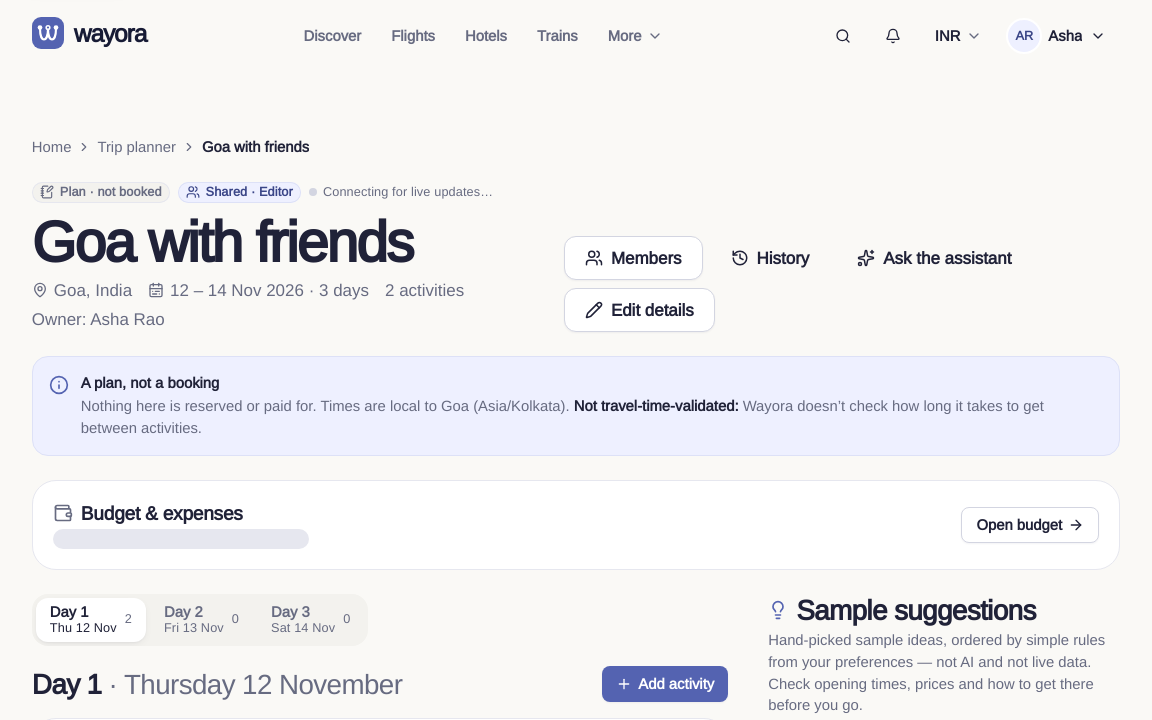
controls follow the role › an editor edits the itinerary and details, but can’t delete, share or link a booking
Expected: the heading "Goa with friends" is shown, x1=32 y1=206 x2=412 y2=274
Expected: the text "Shared · Editor" is shown, x1=178 y1=182 x2=301 y2=203
Step 1. Click the button "Edit details" → [639, 310], box x1=564 y1=288 x2=715 y2=332
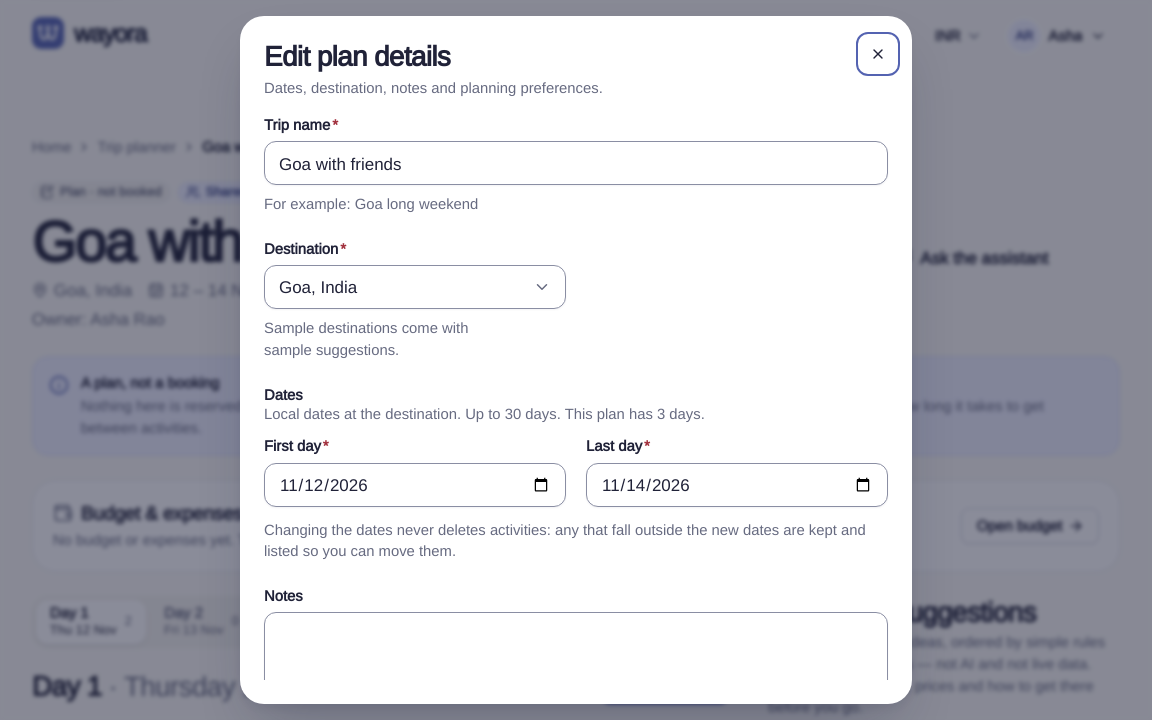
Result: the field labelled "Trip name*" is shown at x1=279 y1=142 x2=873 y2=184
